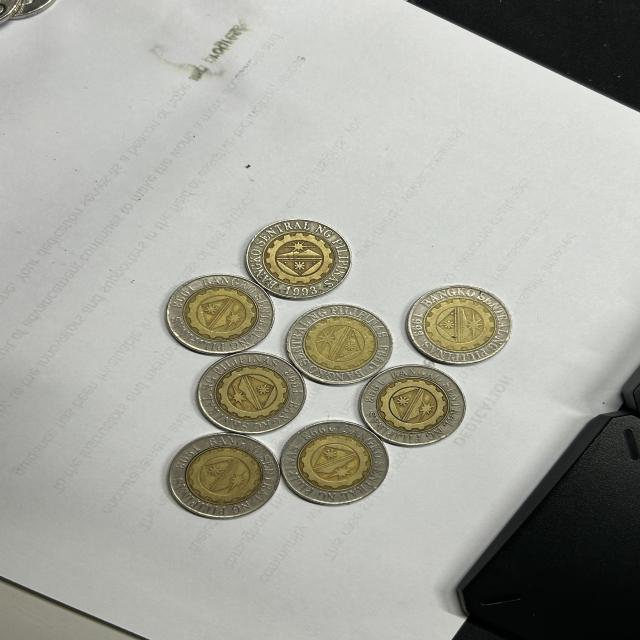10_Old_Back: (172, 439, 275, 521), (204, 357, 306, 432), (168, 278, 264, 350), (288, 433, 381, 503), (376, 371, 461, 447), (256, 224, 344, 295), (415, 294, 506, 360), (295, 316, 389, 379)
